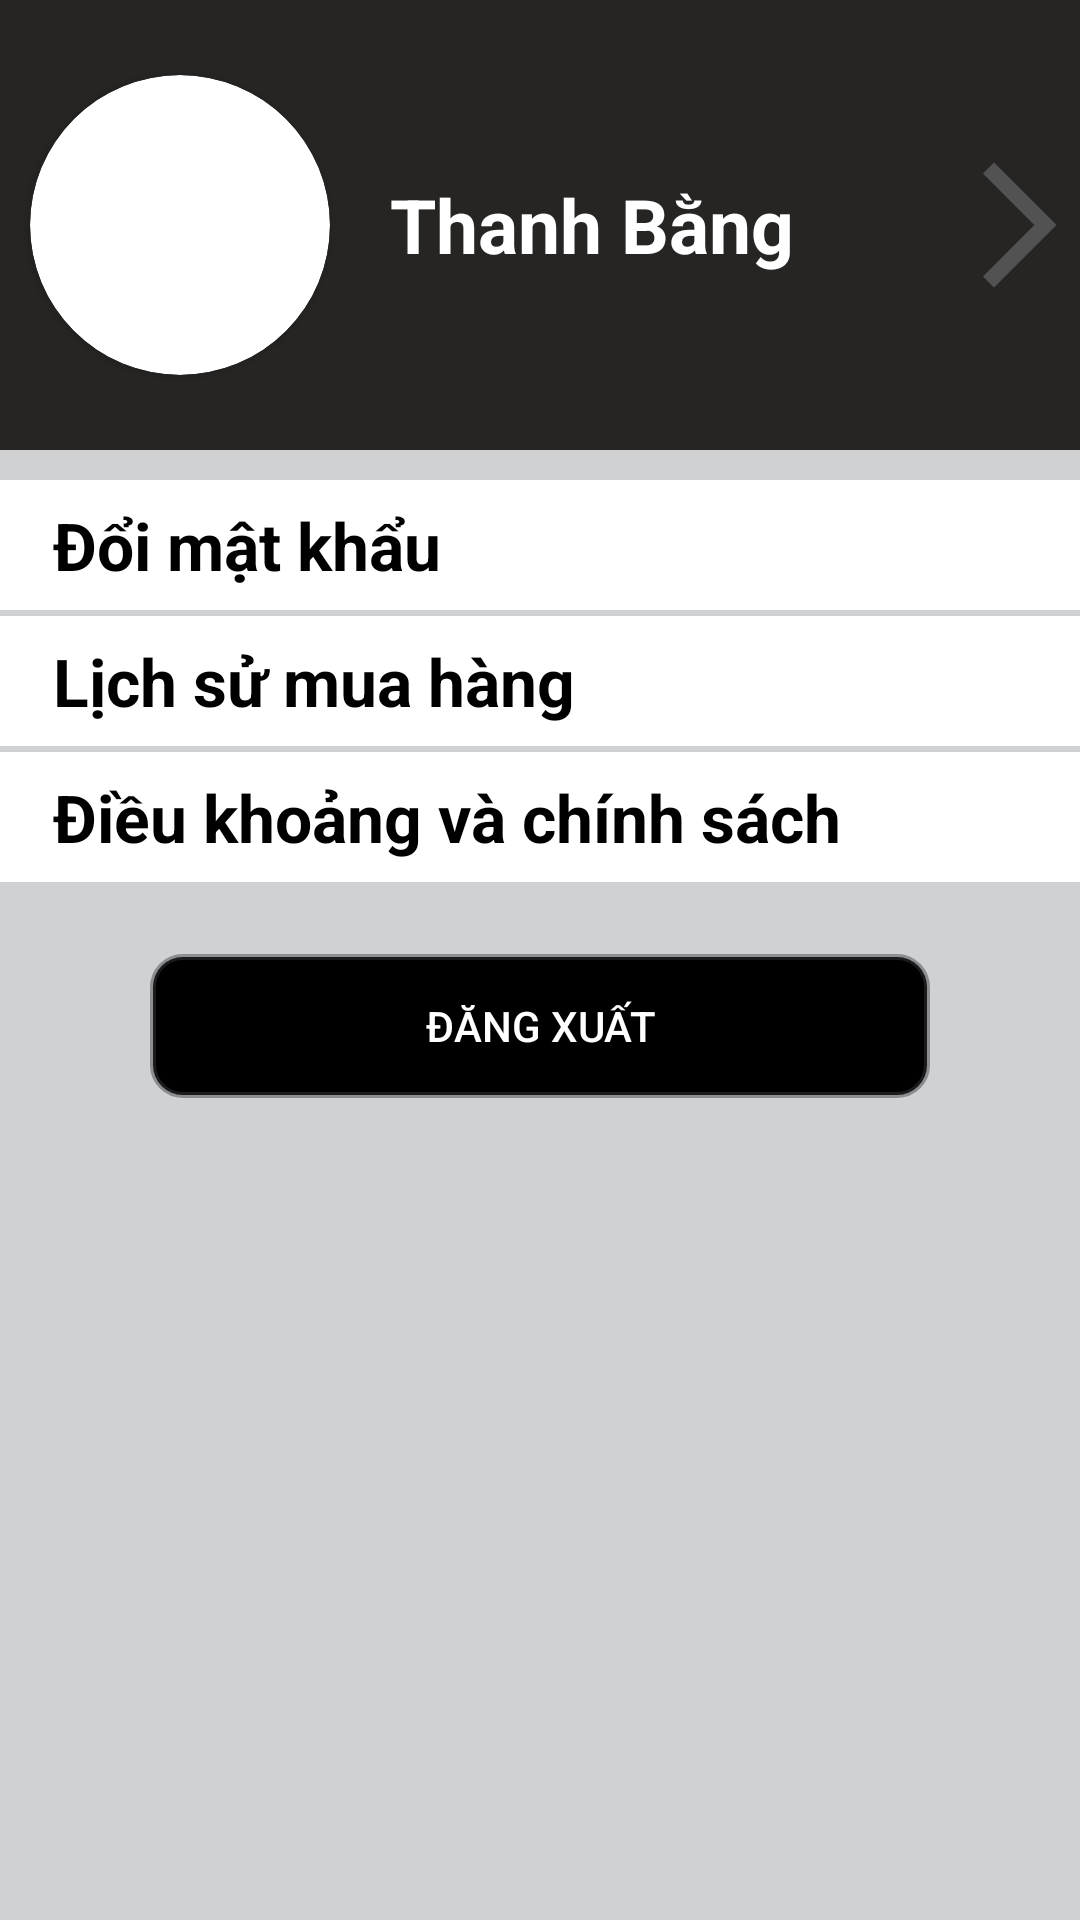

Where to tap for icons on this 1080 x 1920 app screen, as point (x, y):
arrow forward: point (1019, 225)
